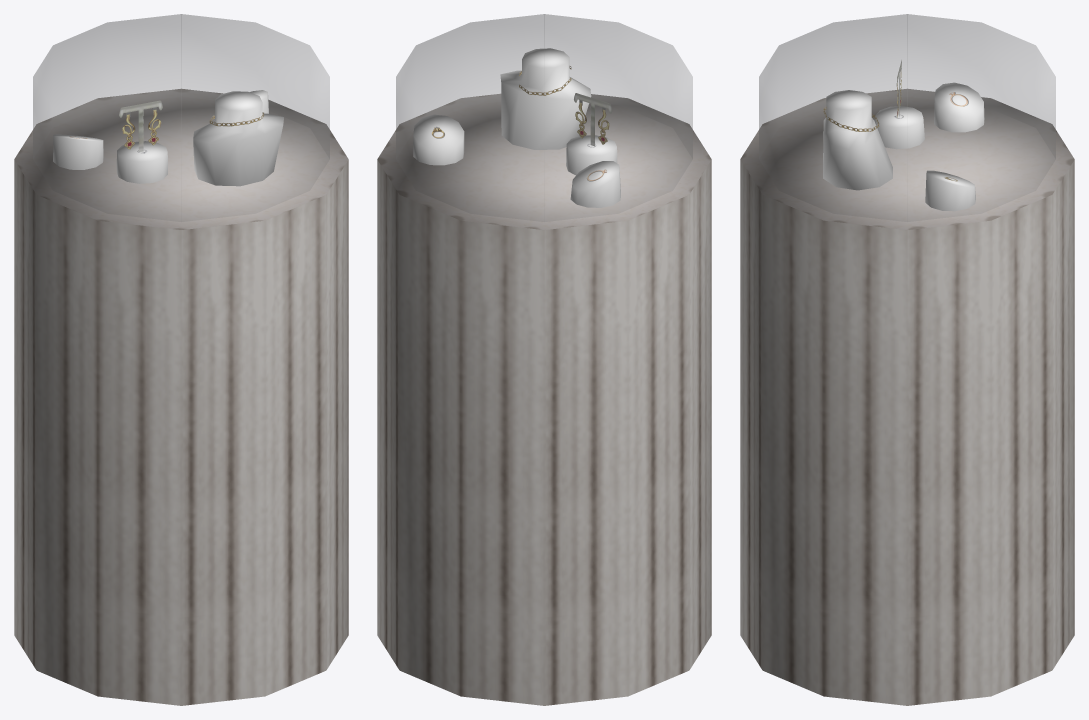
The model's file is 01_AccGold.fbx.
3 renders of one model, left to right at view 1: azimuth 30°, elevation 25°; view 2: azimuth 150°, elevation 25°; view 3: azimuth 270°, elevation 25°, orthographic.
Parts seen in each view (by area): view 1: AccGold; view 2: AccGold; view 3: AccGold.
Part boxes in pixels (bbox=[...]): AccGold: bbox=[14, 14, 348, 705]; AccGold: bbox=[377, 14, 711, 705]; AccGold: bbox=[740, 14, 1074, 705].
Bounding box in the file's own units: 4.85 × 8.94 × 4.85.
Materials: 2 (1 with a texture image).
